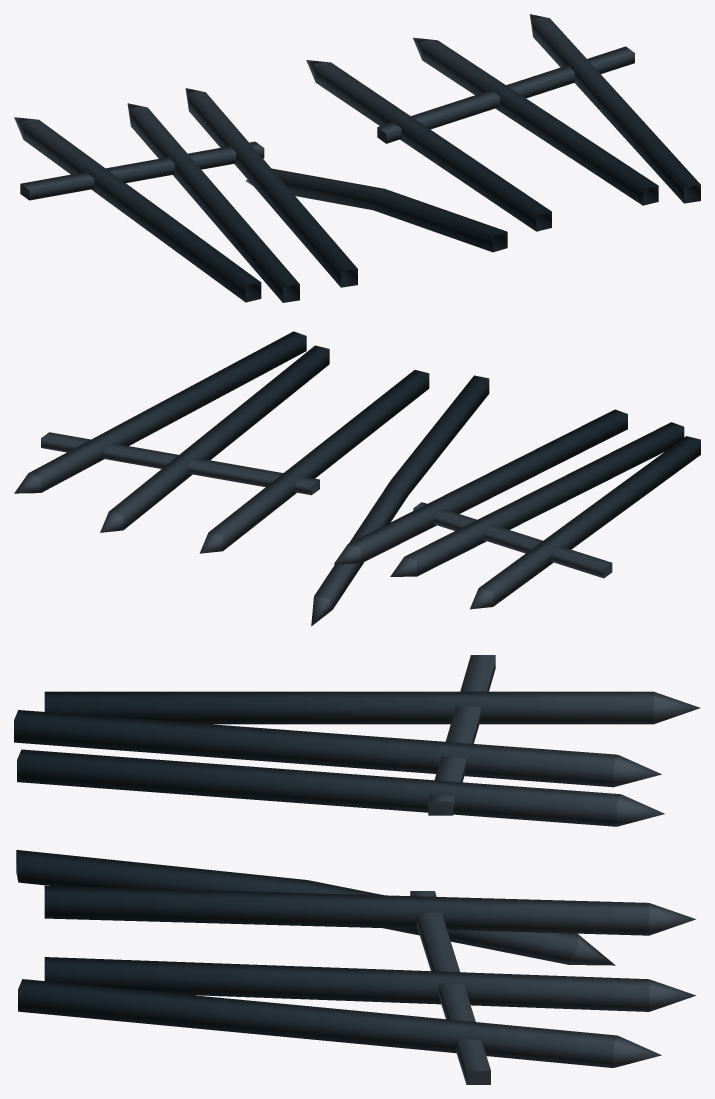
Rendered from Fence 03.FBX.
3 renders of one model, top to bottom at view 1: azimuth 30°, elevation 25°; view 2: azimuth 150°, elevation 25°; view 3: azimuth 270°, elevation 25°, orthographic. The views are drawn at different scales.
Parts seen in each view (by area): view 1: Fence 03; view 2: Fence 03; view 3: Fence 03.
Part boxes in pixels (x1=…): Fence 03: x1=14, y1=14, x2=700, y2=302; Fence 03: x1=14, y1=331, x2=700, y2=626; Fence 03: x1=14, y1=655, x2=700, y2=1084.
Size of the model in its own units: 347 by 249 by 53.95.
Materials: 1 (1 with a texture image).
